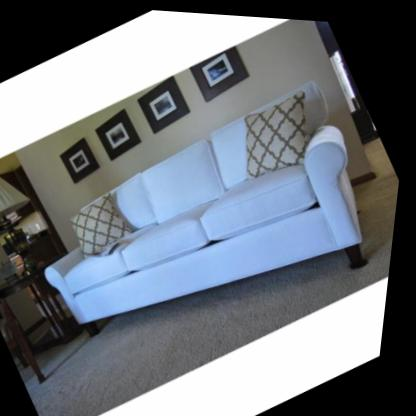Sofa: (8, 60, 411, 406)
